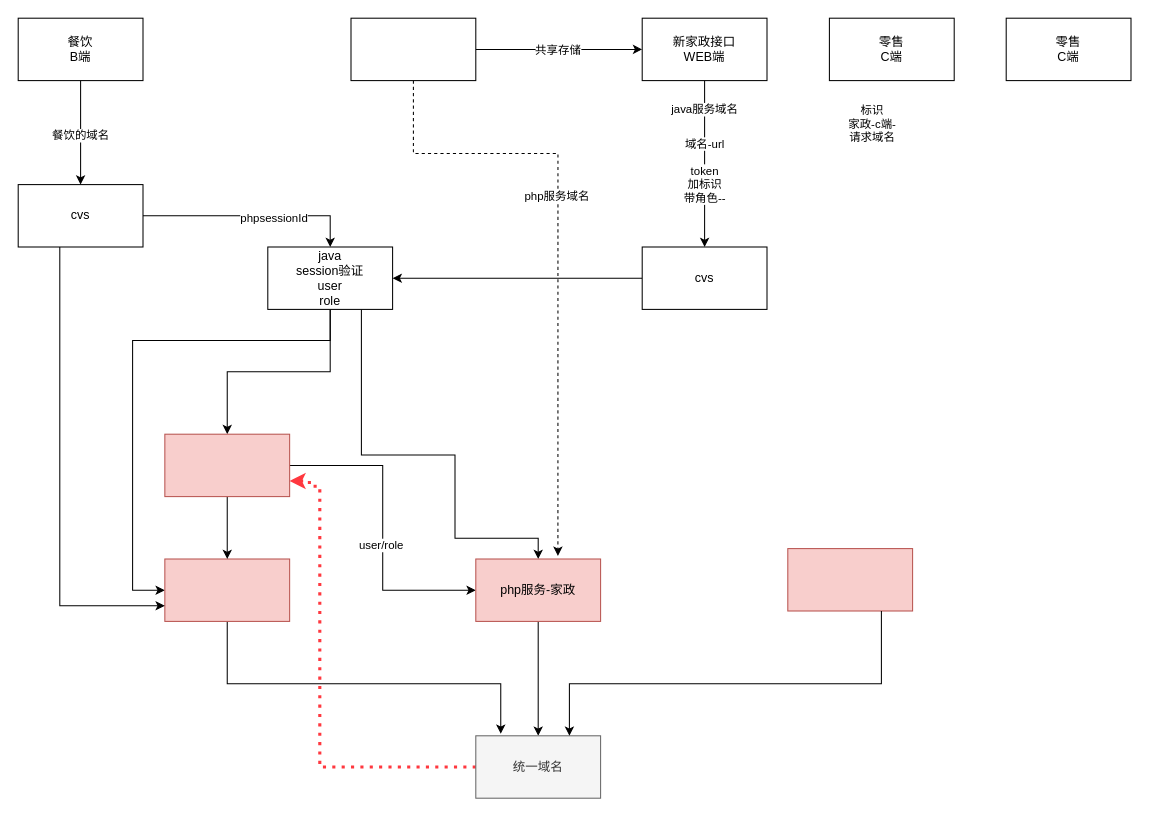
Image size: 1149x816. Some labels were removed from this diagram. Each missing label, with the centre of its shape:
"java服务" goes at point (227, 465).
"php服务-零售" goes at point (850, 579).
"php服务-餐饮" goes at point (227, 589).
"老家政 C端" goes at point (413, 49).
